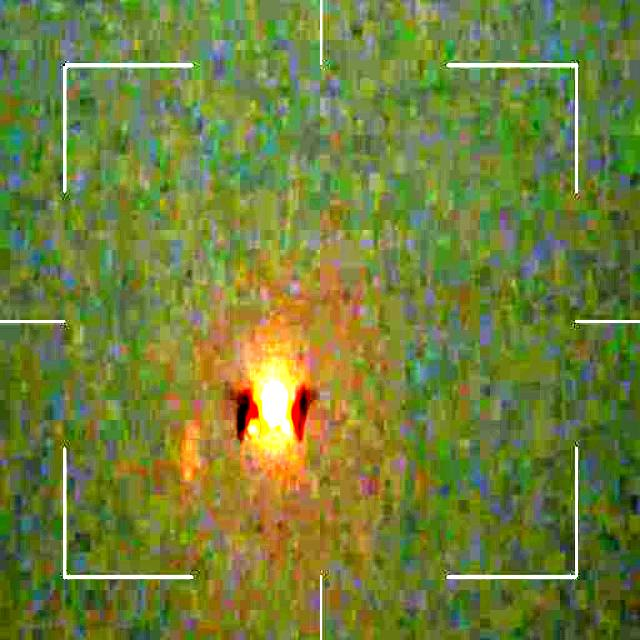bird: (234, 366, 314, 444)
